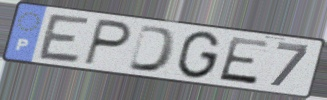7: (268, 40, 314, 90)
D: (125, 23, 180, 74)
E: (36, 12, 93, 66), (216, 35, 272, 87)
G: (174, 29, 223, 81)
P: (81, 17, 134, 68)
